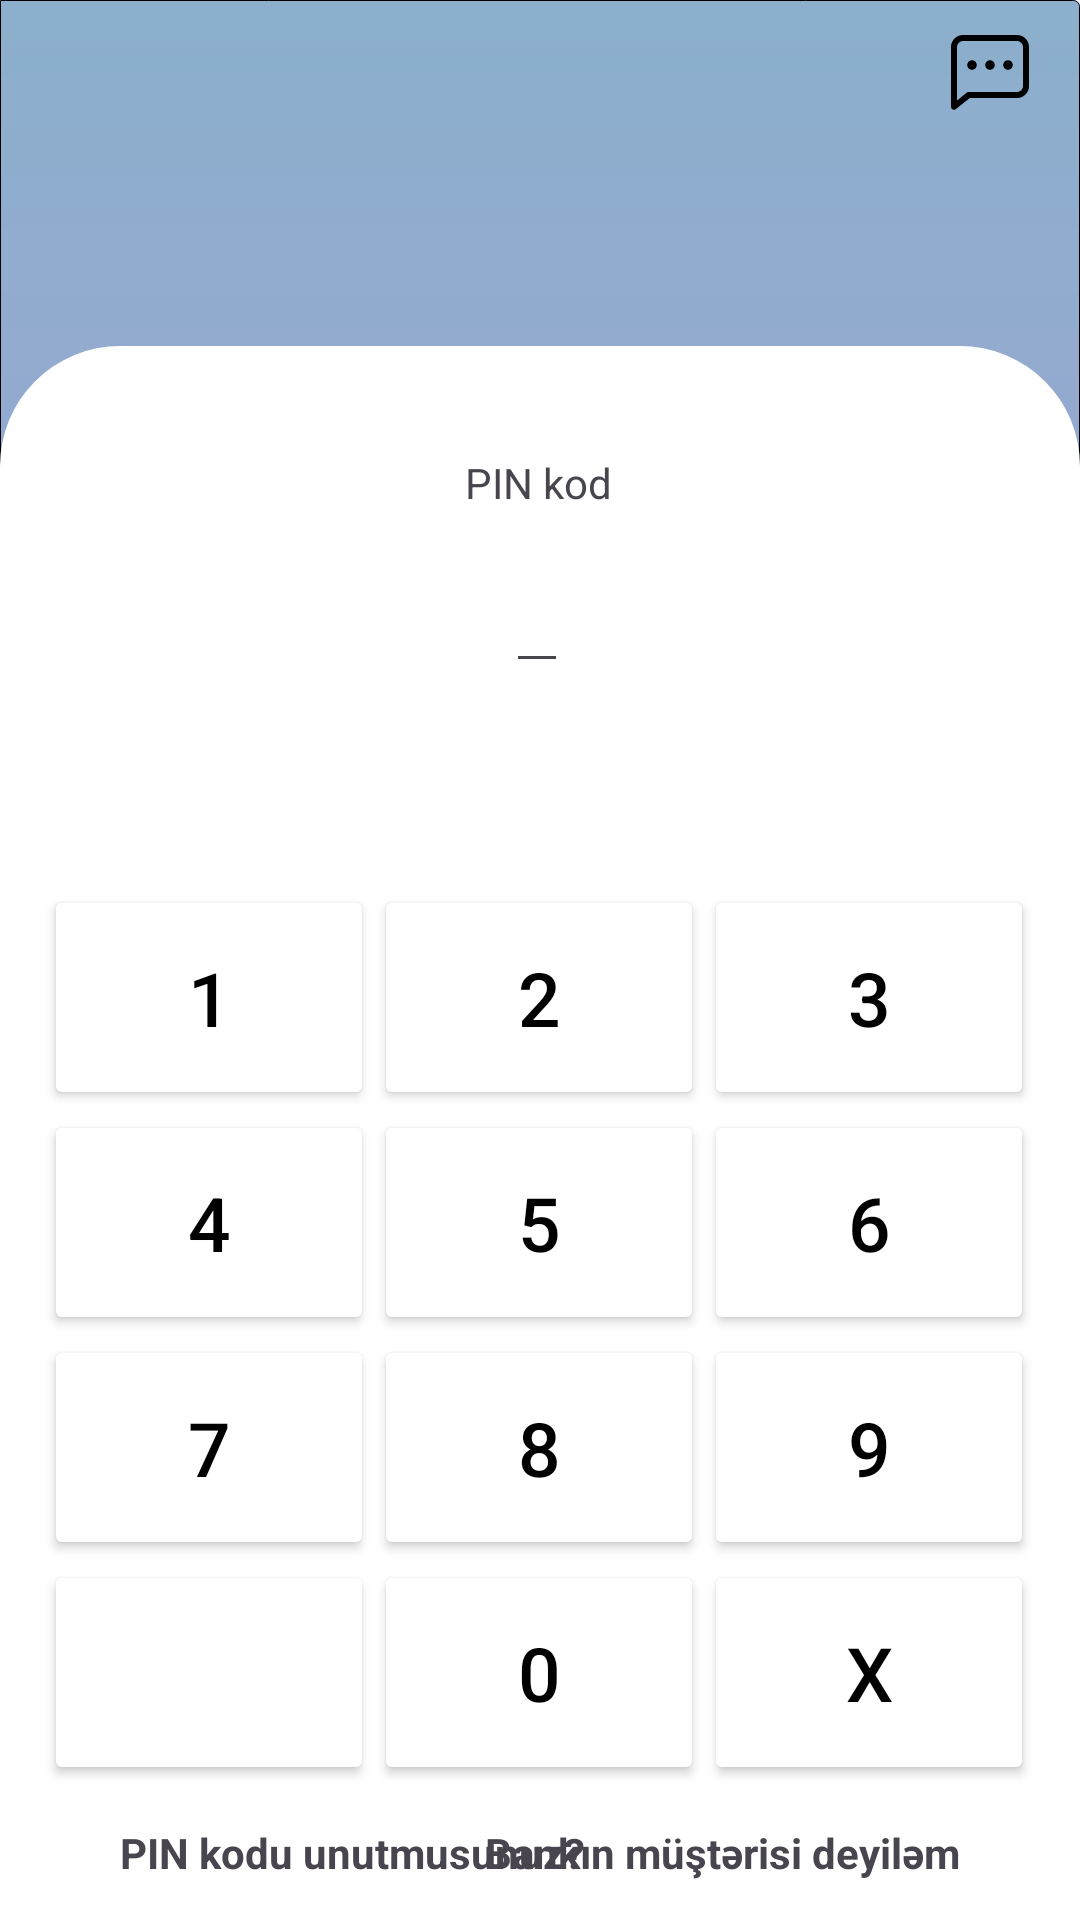

Where to tap for icons on this 1080w x 1920h app screen, as (x=x, y=y):
chat: (x=990, y=72)
